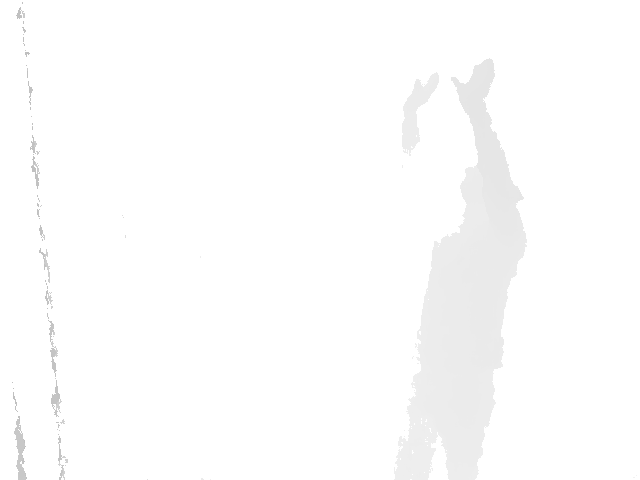hand: (451, 59, 496, 115), (404, 72, 440, 115)
head: (462, 165, 526, 214)
person: (394, 59, 529, 480)
